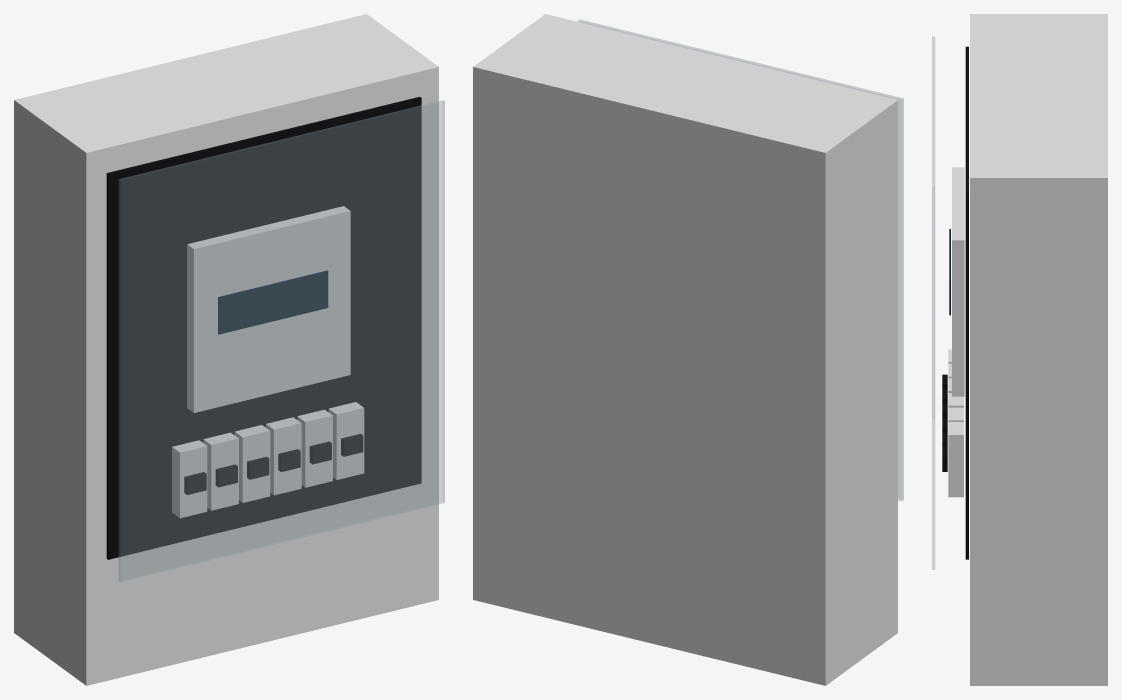
The model's file is Villanyoraszekreny.obj.
3 renders of one model, left to right at view 1: azimuth 30°, elevation 25°; view 2: azimuth 150°, elevation 25°; view 3: azimuth 270°, elevation 25°, orthographic. The views are drawn at different scales.
Bounding box in the file's own units: 0.45 × 0.65 × 0.204.
